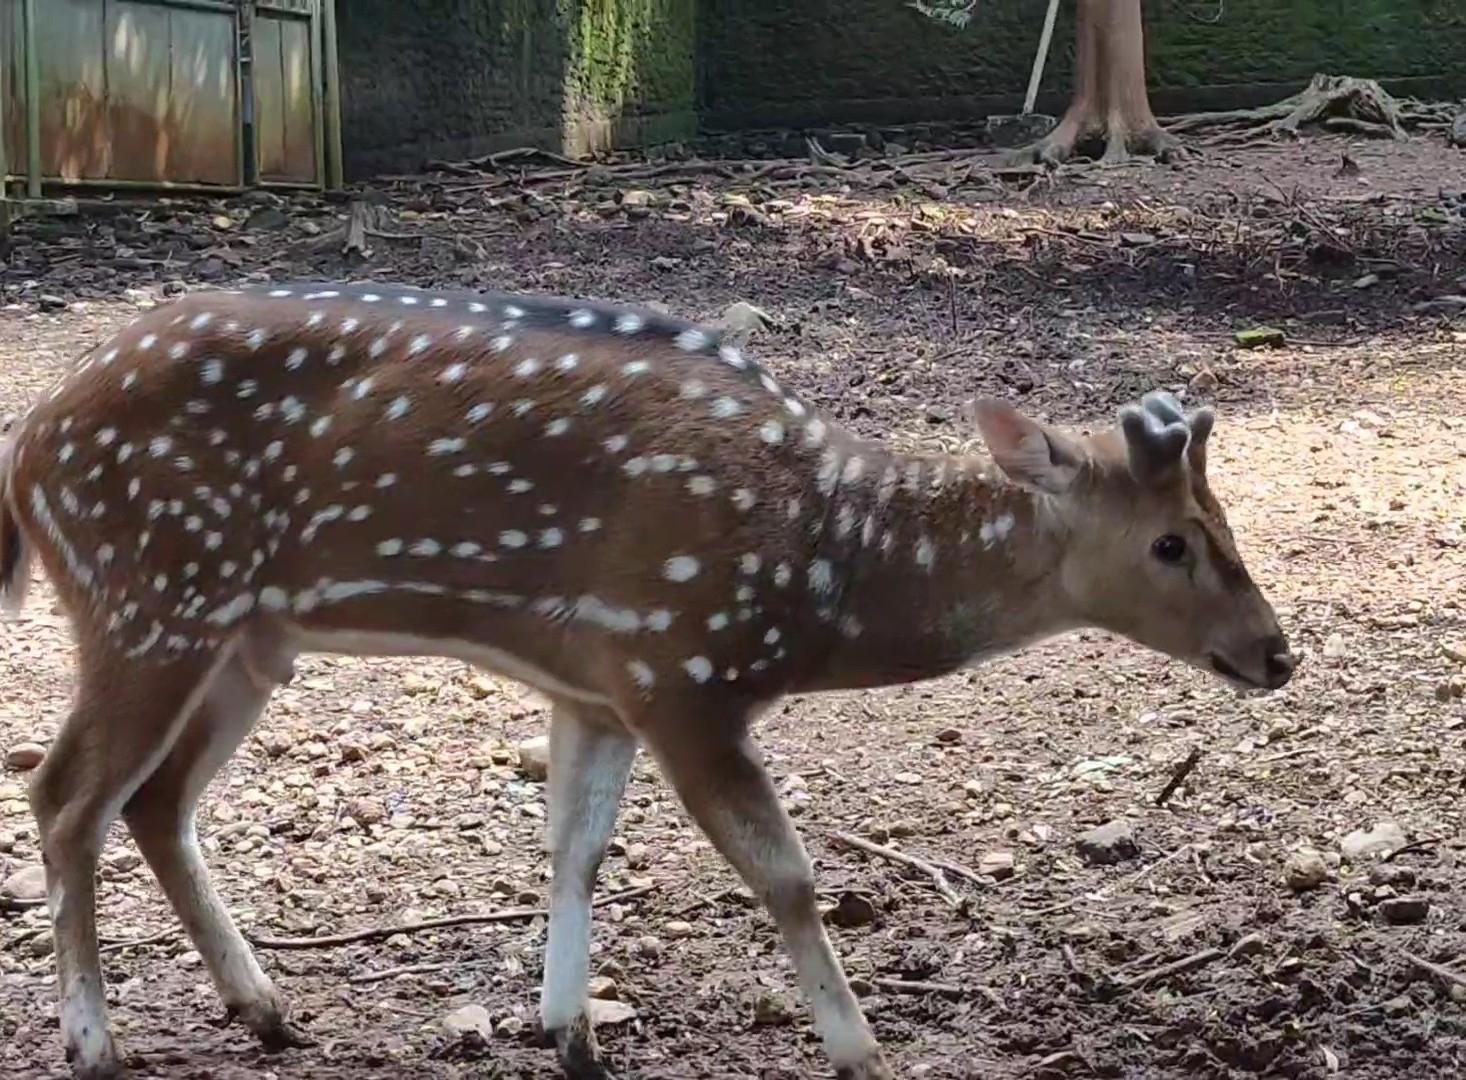Deer: (0, 282, 1298, 1079)
